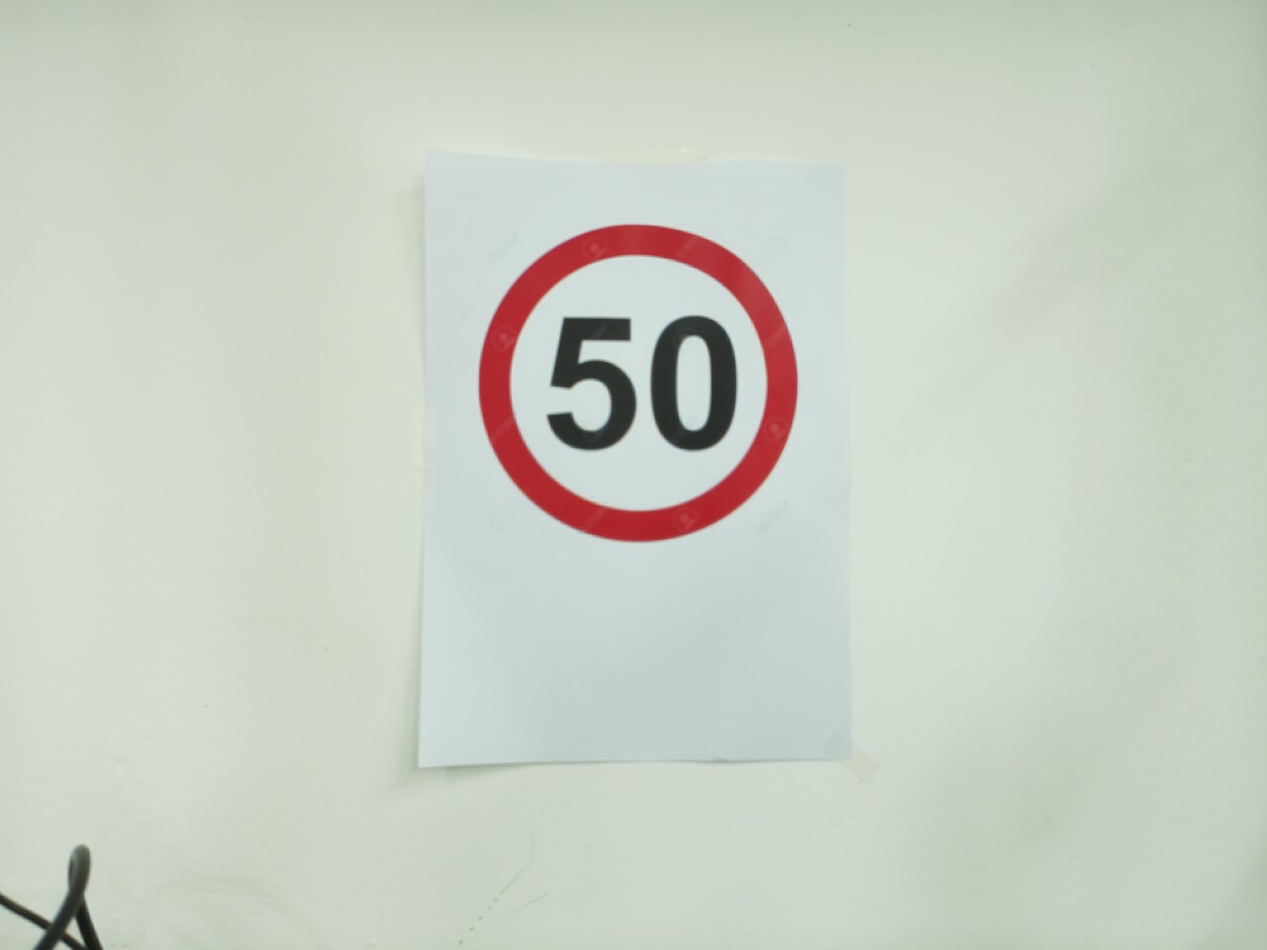speed_50: (468, 215, 808, 552)
